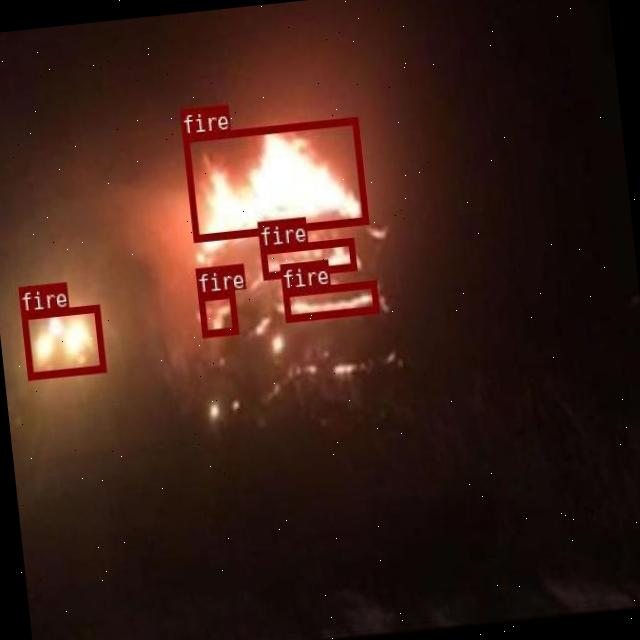fire: (181, 117, 367, 241), (20, 304, 104, 378), (259, 236, 356, 278), (282, 280, 378, 322), (196, 288, 238, 336)
